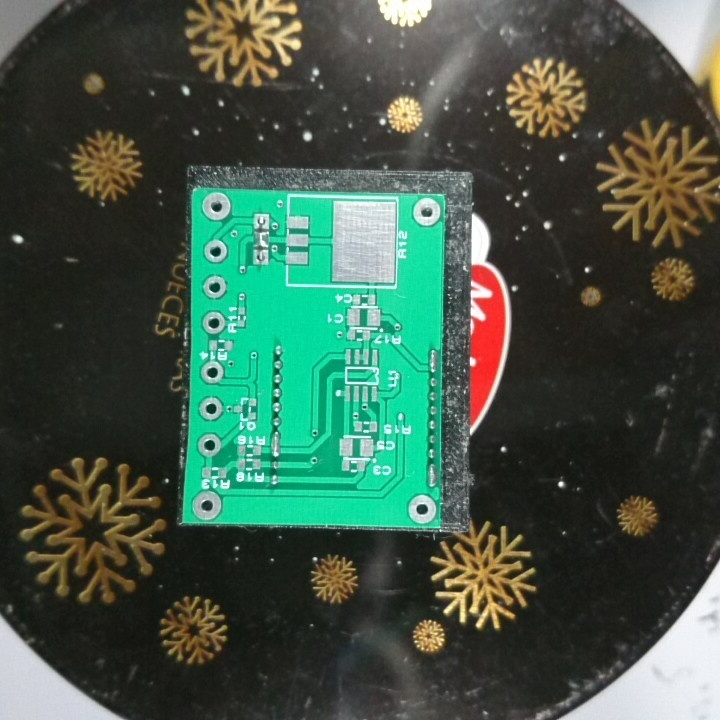F: (190, 488, 224, 521), (200, 190, 232, 223), (410, 198, 443, 230), (407, 489, 437, 523), (195, 431, 228, 458), (199, 358, 227, 388), (196, 394, 224, 423), (201, 309, 227, 337), (201, 274, 228, 300), (203, 239, 229, 265), (248, 245, 270, 268), (252, 210, 271, 232)
P: (270, 430, 287, 458), (427, 348, 441, 374), (426, 460, 437, 489)
